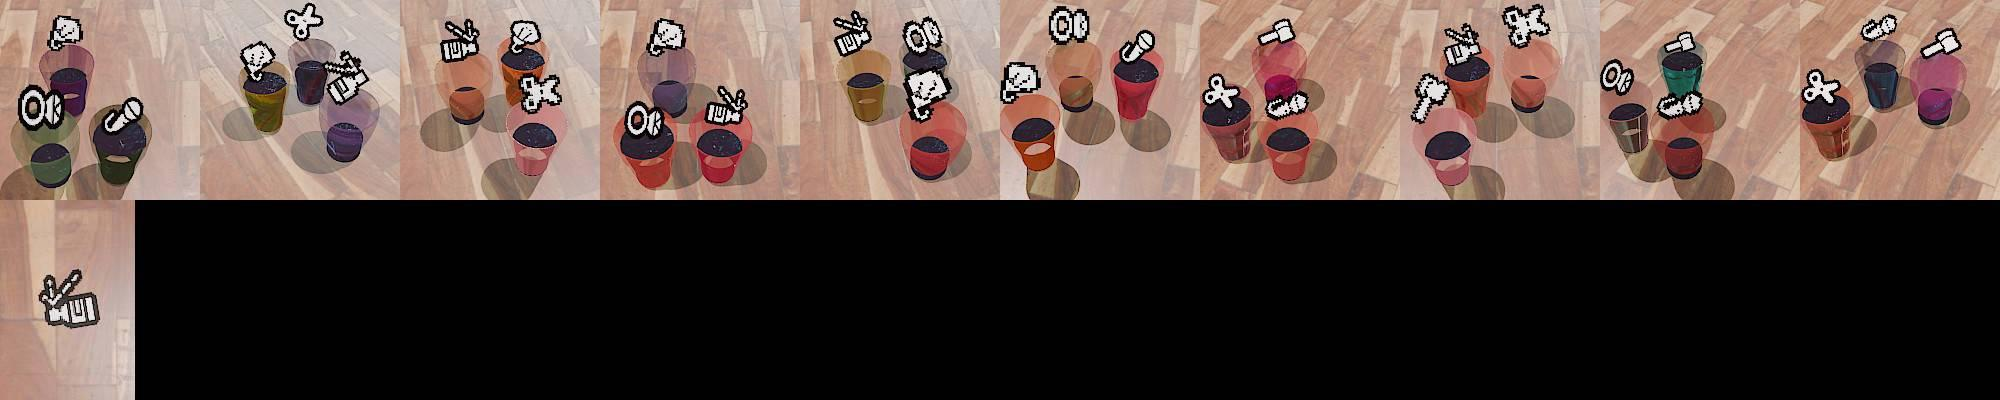icon: (40, 266, 103, 325), (903, 66, 954, 121), (324, 48, 370, 103), (17, 83, 66, 131), (1501, 3, 1551, 50), (902, 14, 946, 66), (830, 9, 872, 59), (1409, 71, 1450, 122), (1441, 23, 1485, 69), (439, 18, 481, 65), (999, 60, 1042, 104), (517, 73, 564, 113), (1047, 5, 1091, 47), (704, 84, 749, 125), (624, 98, 666, 139), (647, 17, 687, 57), (1264, 89, 1311, 124), (1800, 68, 1842, 106), (283, 3, 324, 41), (103, 96, 145, 132), (1202, 73, 1241, 111), (1654, 90, 1703, 120), (240, 41, 277, 79), (1920, 27, 1962, 60), (1119, 29, 1156, 65), (48, 14, 83, 51), (1601, 59, 1634, 96), (1256, 17, 1296, 47), (509, 19, 542, 54), (1860, 13, 1898, 42), (1661, 29, 1696, 56)
